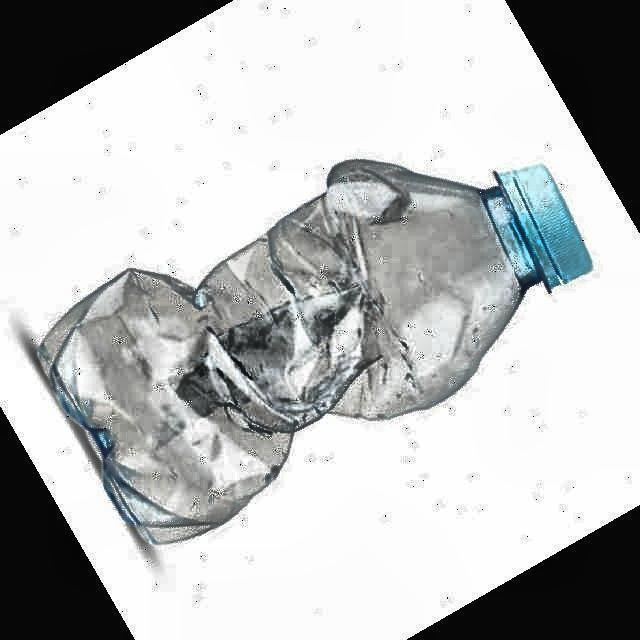plastic: (38, 160, 590, 542)
